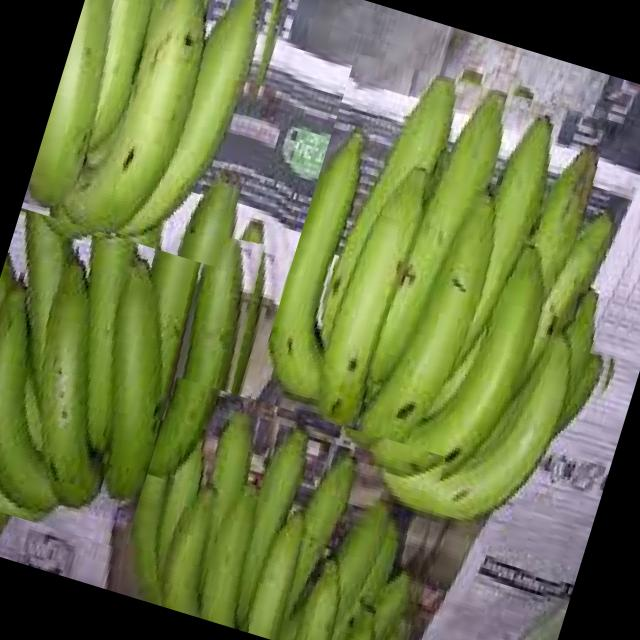Organic: (233, 40, 640, 550), (0, 172, 287, 569), (110, 373, 463, 640), (20, 0, 303, 266)
